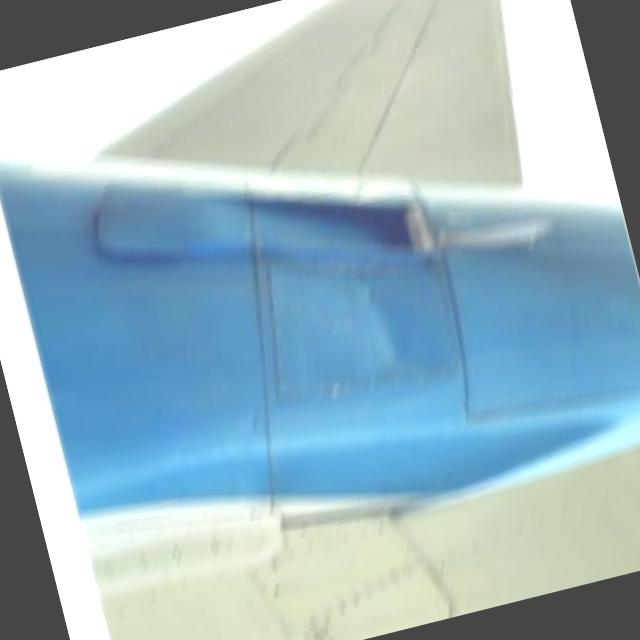dent: (338, 251, 447, 386)
